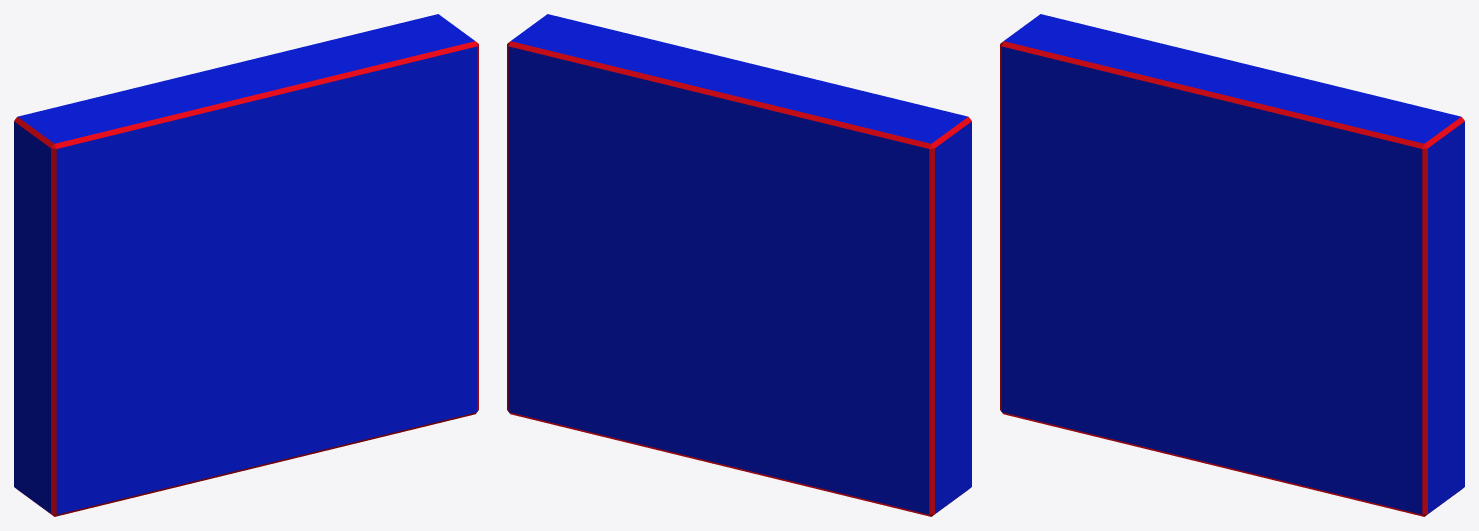
Rendered from L5_Door_6U.fbx.
The picture shows the model from 3 angles, left to right: view 1: azimuth 30°, elevation 25°; view 2: azimuth 150°, elevation 25°; view 3: azimuth 330°, elevation 25°; orthographic projection.
Visible parts, largest first — view 1: L5_Door_6U; view 2: L5_Door_6U; view 3: L5_Door_6U.
Part boxes in pixels (x1,y1,x2,y2): L5_Door_6U: [14, 14, 478, 516]; L5_Door_6U: [507, 14, 971, 516]; L5_Door_6U: [1000, 14, 1464, 516].
Bounding box in the file's own units: 600 × 500 × 100.
